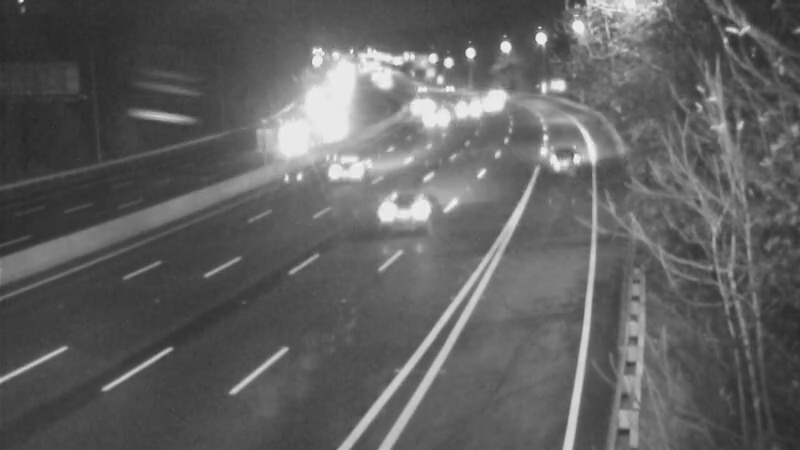vehicle: (518, 123, 598, 203), (299, 135, 379, 215), (360, 171, 440, 251), (459, 78, 509, 128), (394, 76, 444, 126), (440, 80, 490, 130), (412, 90, 462, 140), (270, 115, 320, 165), (306, 98, 356, 148)
